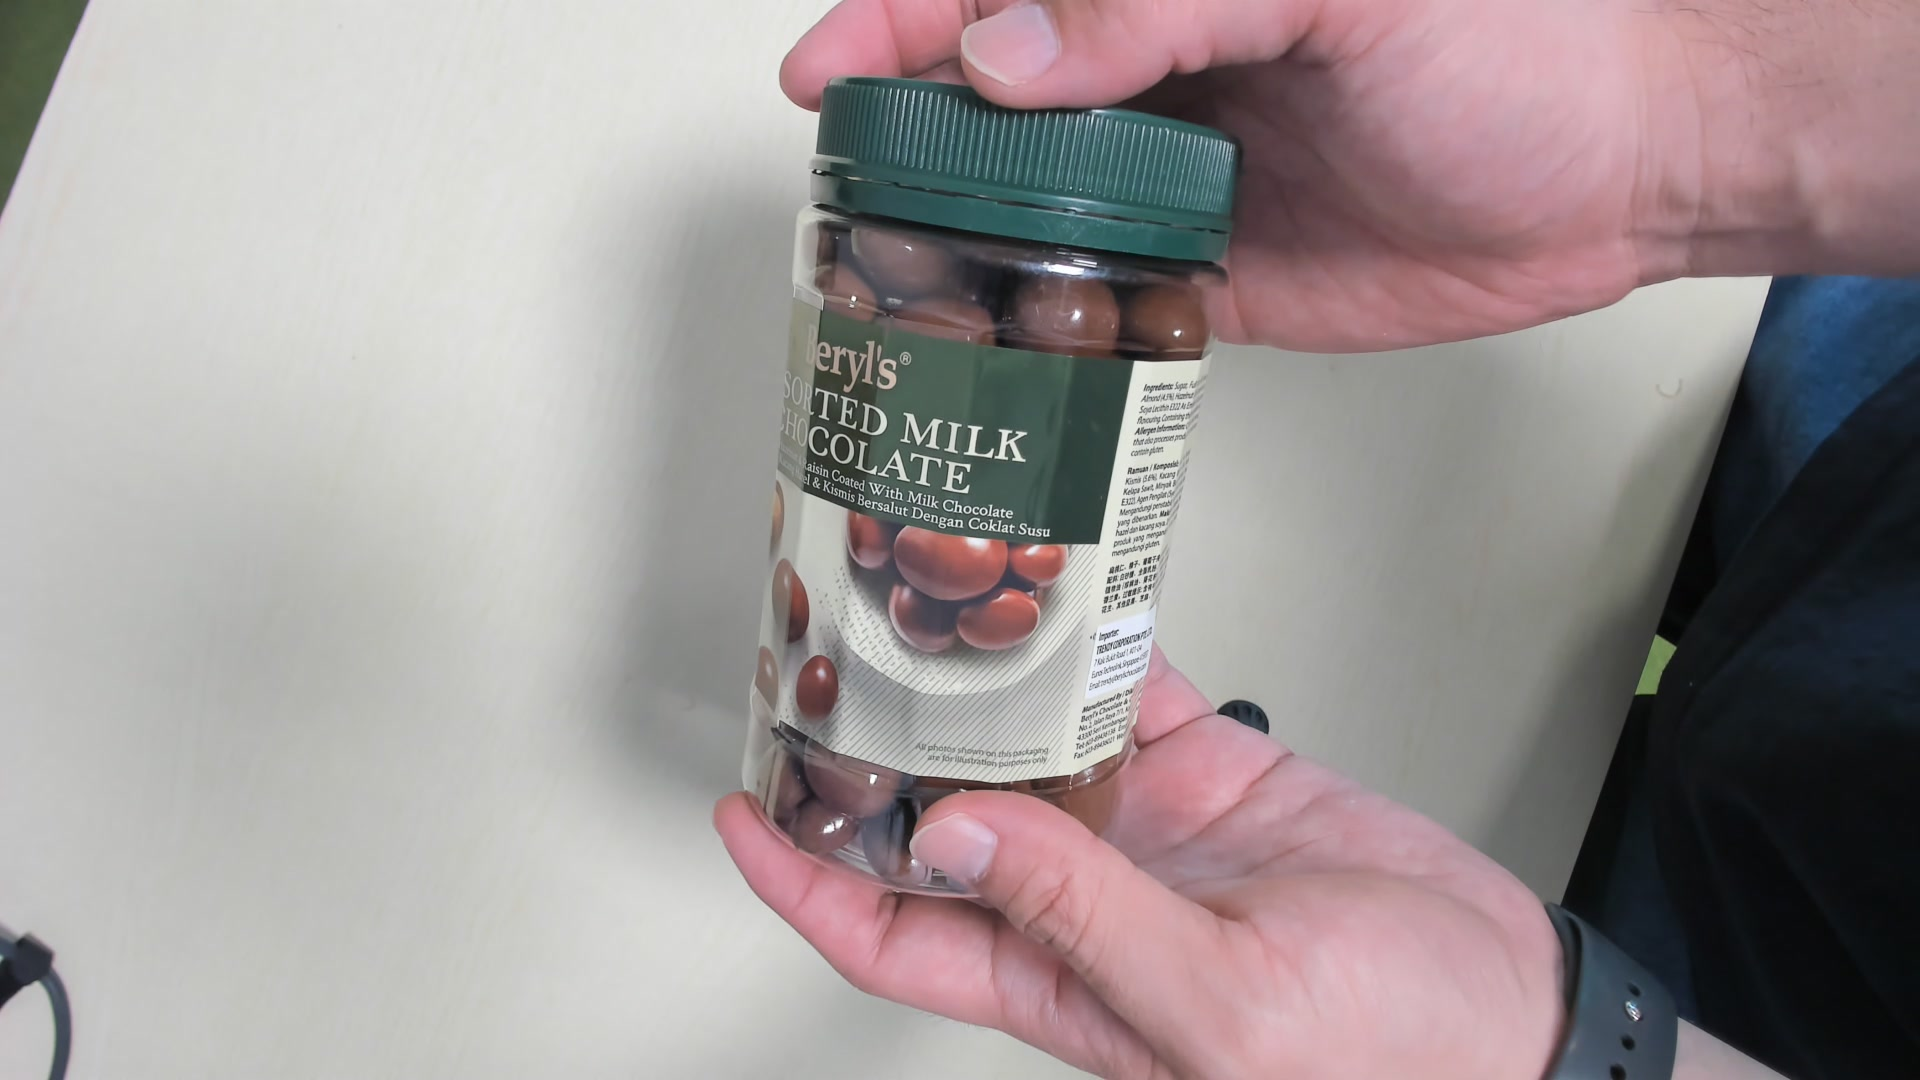SweetsChocolatesOthers_400-499g_Halal_Nonhealthy: (749, 84, 1229, 898)
